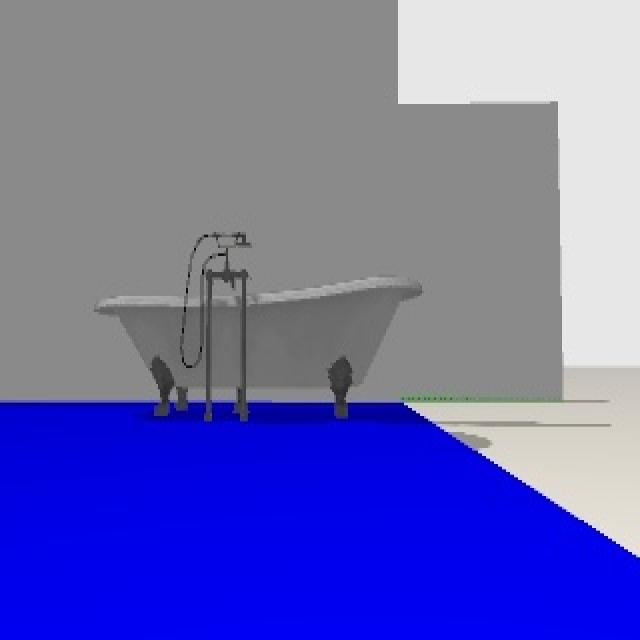bathtub: (96, 232, 424, 421)
